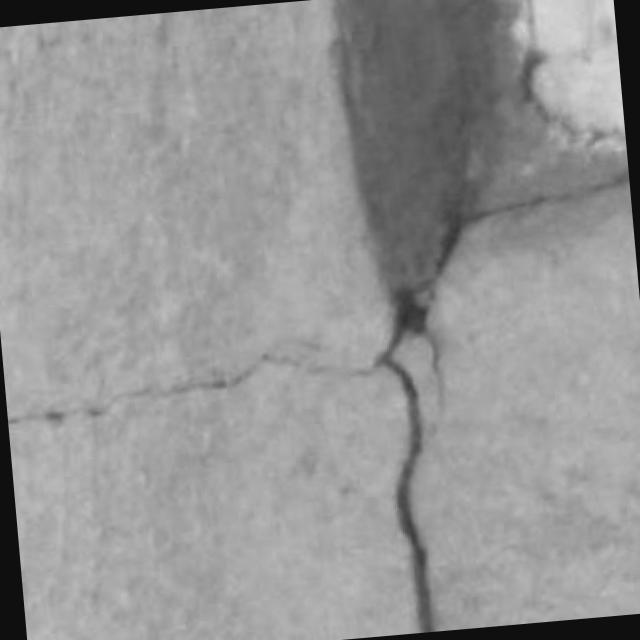crack: (8, 352, 378, 424), (376, 291, 436, 632), (380, 355, 434, 632), (461, 166, 629, 225)
